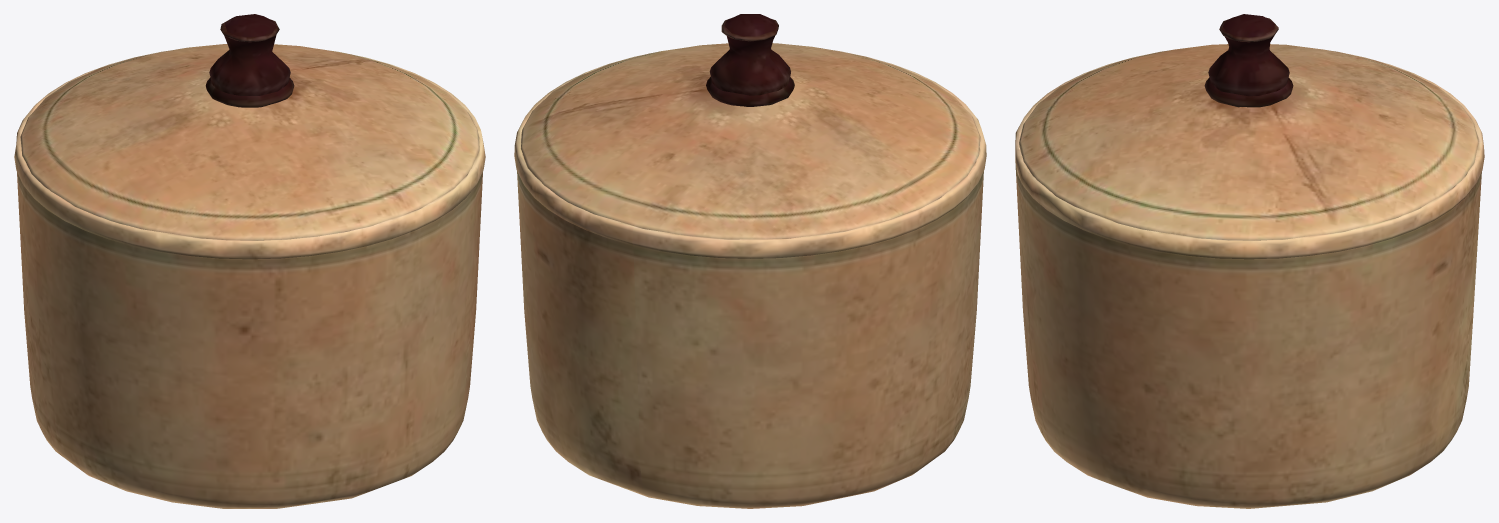
Rendered from pot.glb.
3 renders of one model, left to right at view 1: azimuth 30°, elevation 25°; view 2: azimuth 150°, elevation 25°; view 3: azimuth 270°, elevation 25°, orthographic.
Visible parts, largest first — view 1: brass_pot_01; view 2: brass_pot_01; view 3: brass_pot_01.
Part boxes in pixels (<box>): brass_pot_01: <box>14,14,485,508</box>; brass_pot_01: <box>514,14,986,508</box>; brass_pot_01: <box>1015,14,1484,508</box>.
Size of the model in its own units: 0.3019 by 0.2909 by 0.3005.
Materials: 1 (1 with a texture image).
